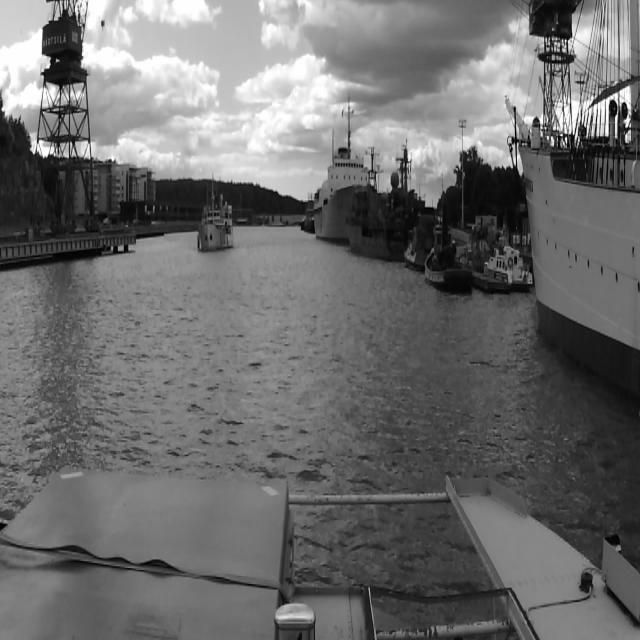ship: (519, 0, 640, 404), (347, 146, 401, 260), (314, 107, 348, 241), (424, 224, 472, 293), (197, 174, 234, 252), (483, 245, 533, 291), (404, 227, 422, 271)
